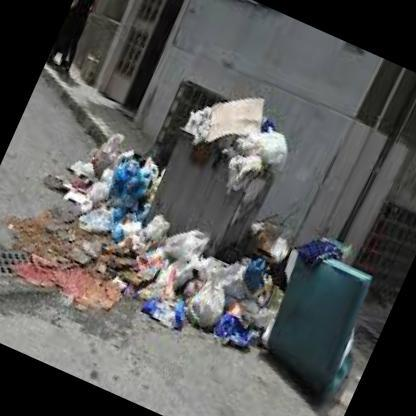Garbage: (184, 76, 304, 172), (41, 161, 130, 248), (99, 139, 169, 218), (178, 274, 233, 346), (92, 206, 150, 266), (236, 118, 294, 172), (154, 249, 209, 304), (163, 216, 215, 272), (293, 225, 349, 276), (207, 306, 264, 356), (234, 258, 282, 312), (138, 297, 190, 343), (221, 144, 266, 192), (194, 248, 238, 296), (110, 156, 154, 201), (87, 127, 124, 180), (43, 166, 88, 204), (132, 243, 164, 285), (185, 136, 221, 172), (113, 226, 146, 260), (150, 268, 181, 302), (143, 210, 171, 247), (184, 103, 215, 135), (80, 203, 110, 236), (86, 178, 107, 204), (211, 148, 230, 176)
